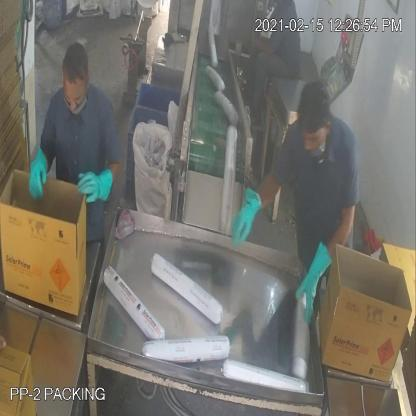glove: (291, 243, 336, 329), (71, 158, 117, 216), (226, 186, 260, 250), (23, 144, 50, 199)
no_glove: (244, 30, 278, 62)
